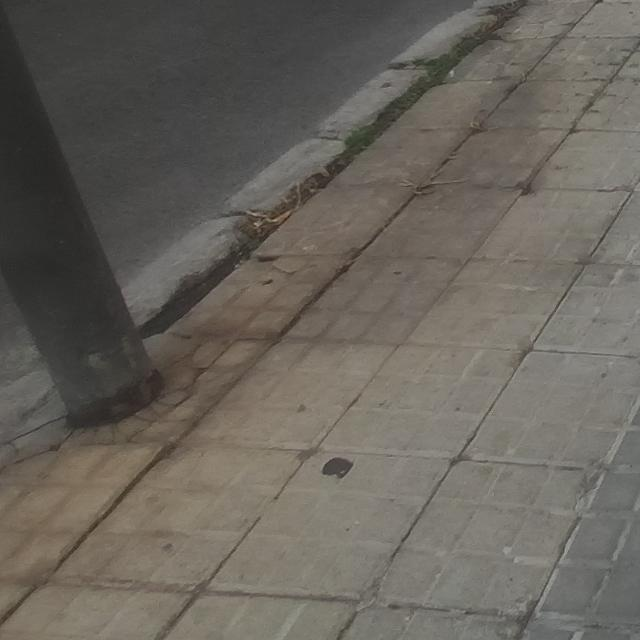calcada_quebrada: (59, 388, 204, 451), (175, 333, 271, 385)
